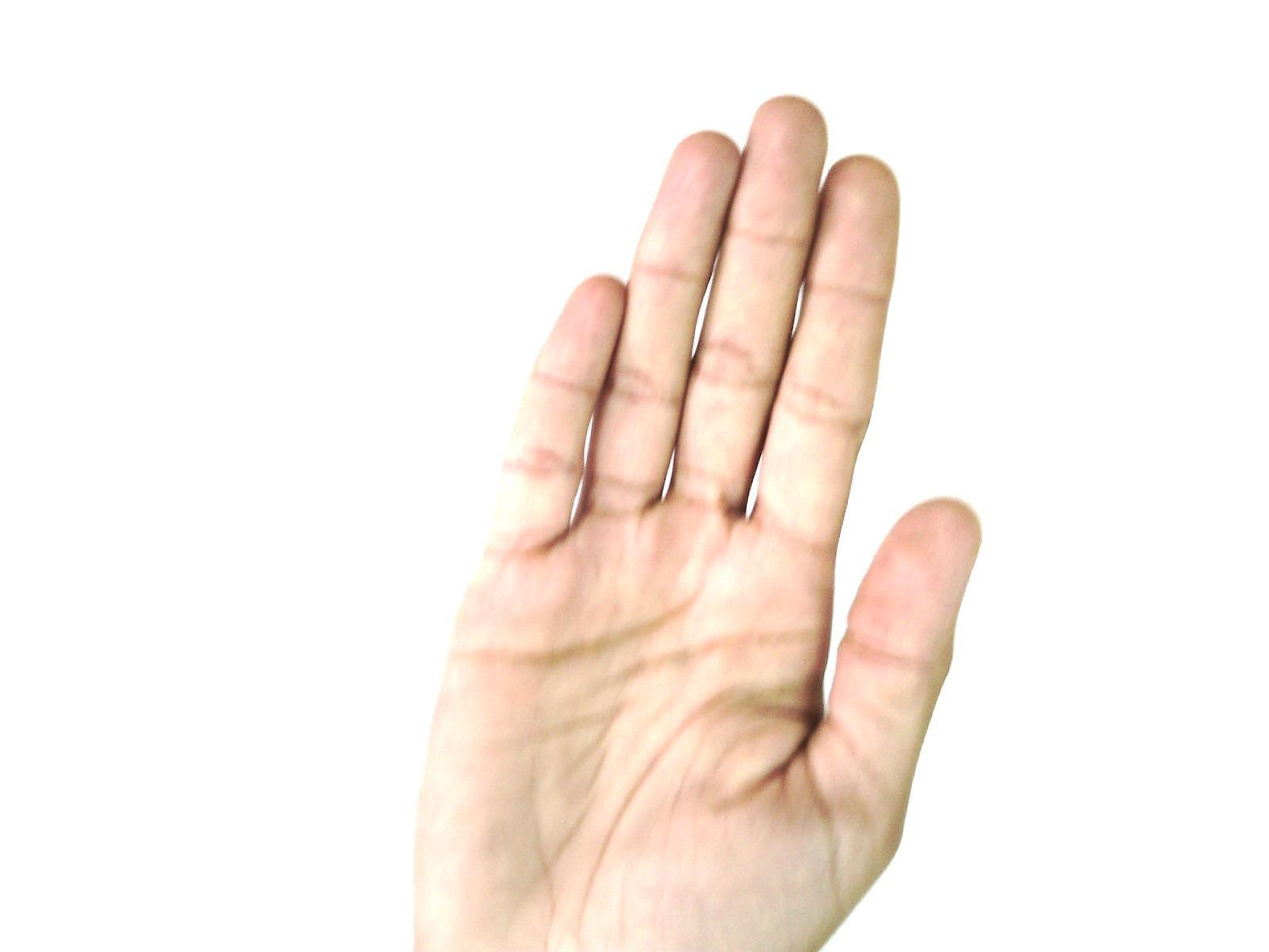open_palm: (408, 94, 985, 952)
